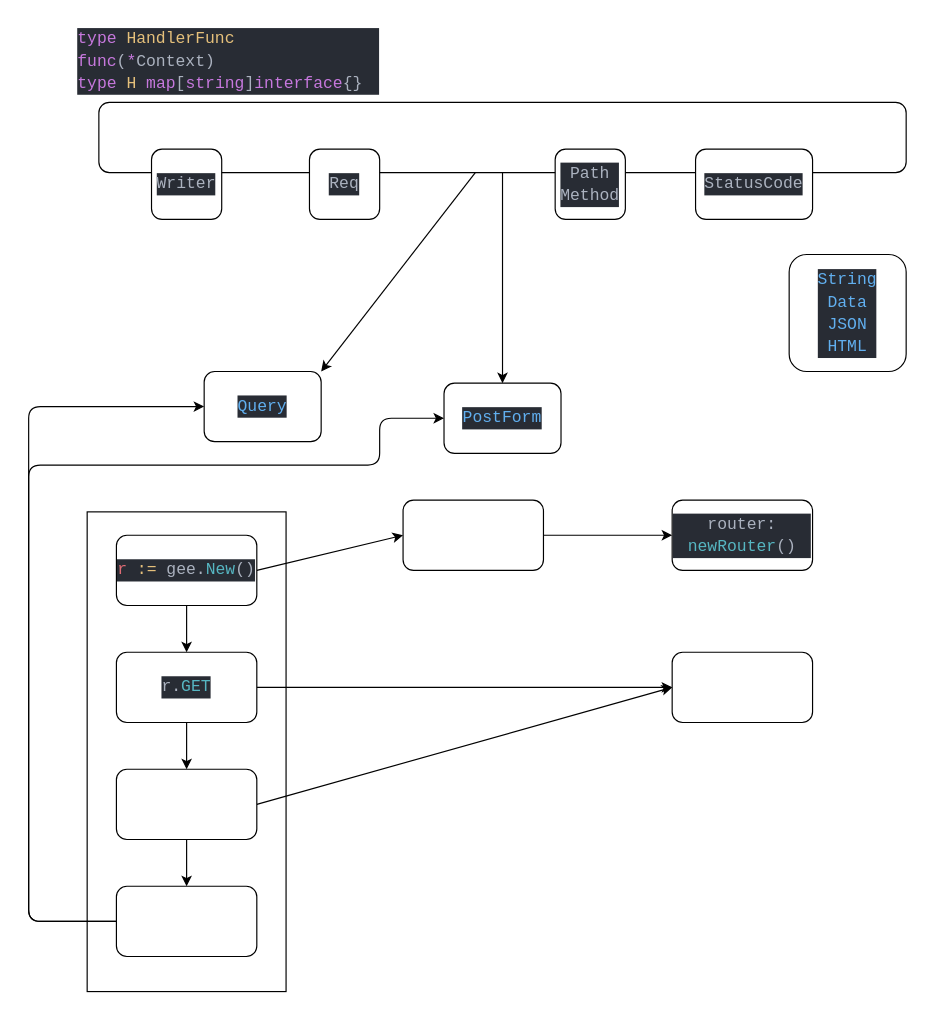
Some shapes in this 927 by 1012 pixel diagram are drawn without their labels. The shapes that lost their labels are listed below. From the top down, each one's centre as x and y in pixels, then its label:
point (502, 137): Context
point (472, 534): Engine
point (742, 686): addRoute
point (186, 803): r. POST
point (186, 920): r. Run ( add )
